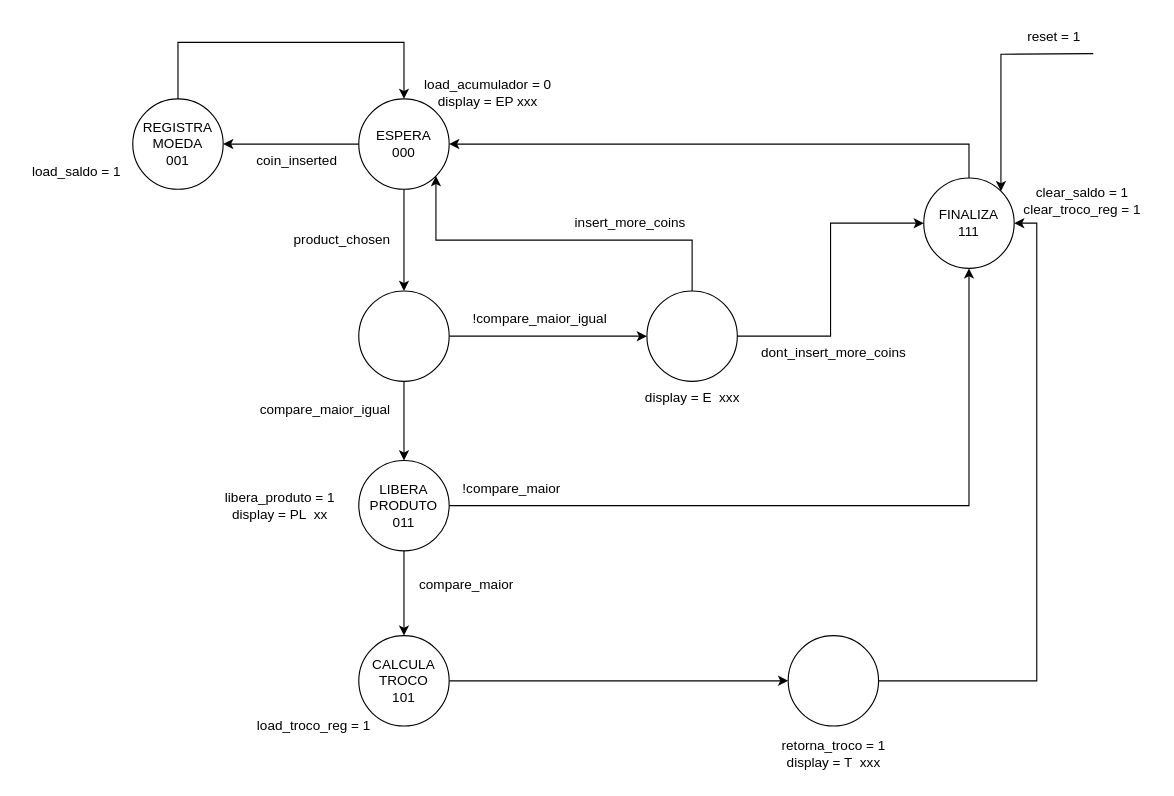
Some shapes in this 1174 by 796 pixel diagram are drawn without their labels. The box of each missing label's shape, as (x1, y1, x2, y2) in pixels:
ERRO VALOR 100: (646, 290, 737, 381)
RETORNA TROCO 110: (787, 634, 879, 726)
VERIFICA CRÉDITO 010: (358, 290, 449, 381)
